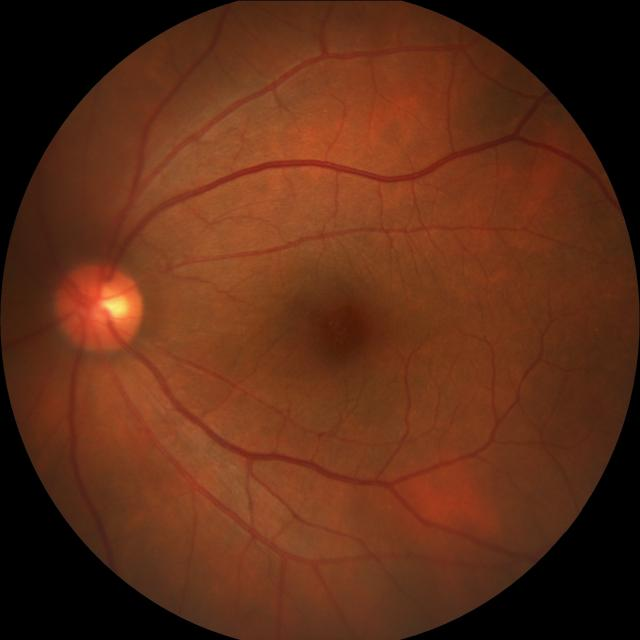OC: (86, 284, 126, 318)
OD: (52, 261, 142, 353)
